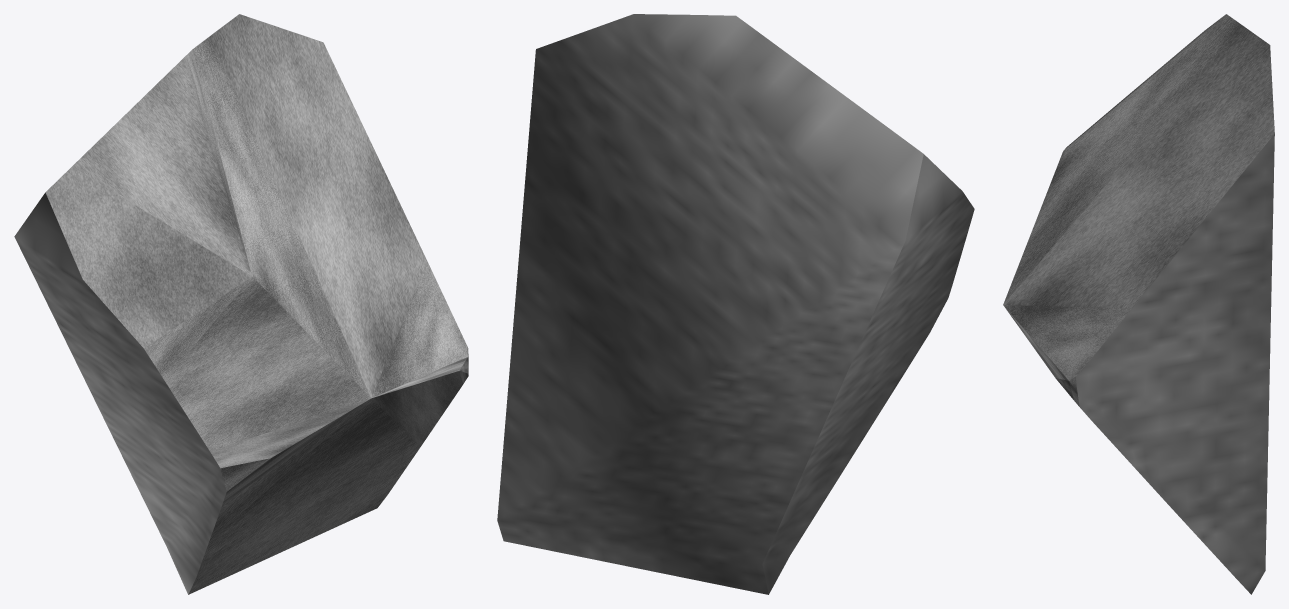
The model's file is leg_4_cell_014.fbx.
The picture shows the model from 3 angles, left to right: view 1: azimuth 30°, elevation 25°; view 2: azimuth 150°, elevation 25°; view 3: azimuth 270°, elevation 25°; orthographic projection. The views are drawn at different scales.
Visible parts, largest first — view 1: leg_4_cell.014; view 2: leg_4_cell.014; view 3: leg_4_cell.014.
Part boxes in pixels (x1,y1,x2,y2): leg_4_cell.014: (14, 14, 468, 594); leg_4_cell.014: (497, 14, 974, 594); leg_4_cell.014: (1003, 14, 1274, 594).
Size of the model in its own units: 31.17 by 43.41 by 21.17.
